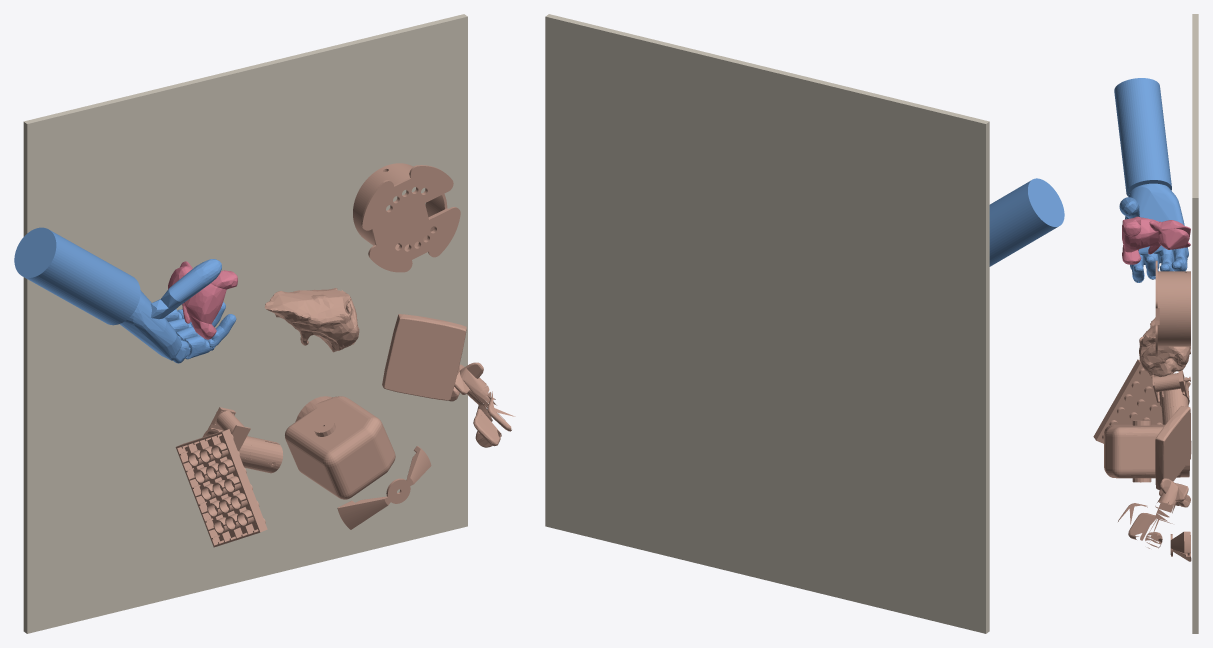
3 renders of one model, left to right at view 1: azimuth 30°, elevation 25°; view 2: azimuth 150°, elevation 25°; view 3: azimuth 270°, elevation 25°, orthographic. The views are drawn at different scales.
Visible parts, largest first — view 1: environment, hand, obstacle_007, obstacle_006, obstacle_003, obstacle_005, obstacle_002, obstacle_000, world, obstacle_004, obstacle_001; view 2: environment, hand; view 3: hand, environment, obstacle_006, obstacle_007, obstacle_003, world, obstacle_005, obstacle_000, obstacle_002, obstacle_004, obstacle_001.
Boxes of the visible parts, x1,y1,x2,y2 form: environment: [23, 14, 467, 633]; hand: [14, 227, 236, 363]; obstacle_007: [353, 163, 460, 272]; obstacle_006: [285, 396, 395, 499]; obstacle_003: [175, 429, 267, 547]; obstacle_005: [382, 314, 466, 400]; obstacle_002: [264, 288, 359, 352]; obstacle_000: [449, 362, 515, 447]; world: [168, 261, 237, 339]; obstacle_004: [202, 407, 283, 473]; obstacle_001: [337, 446, 431, 529]; environment: [545, 14, 989, 633]; hand: [989, 178, 1064, 266]; hand: [1114, 78, 1188, 282]; environment: [1192, 14, 1198, 633]; obstacle_006: [1104, 420, 1189, 482]; obstacle_007: [1155, 260, 1190, 357]; obstacle_003: [1093, 359, 1190, 443]; world: [1122, 216, 1190, 264]; obstacle_005: [1155, 406, 1191, 490]; obstacle_000: [1118, 478, 1190, 548]; obstacle_002: [1139, 317, 1190, 376]; obstacle_004: [1152, 370, 1191, 441]; obstacle_001: [1170, 531, 1191, 561].
Bounding box in the file's own units: 0.6331 × 0.6271 × 0.1371.
